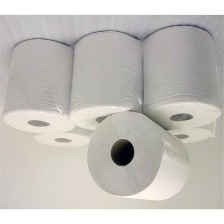tissue: (81, 106, 194, 205), (136, 20, 224, 133), (65, 26, 150, 133), (0, 33, 81, 140), (157, 117, 216, 149), (28, 124, 94, 150)
